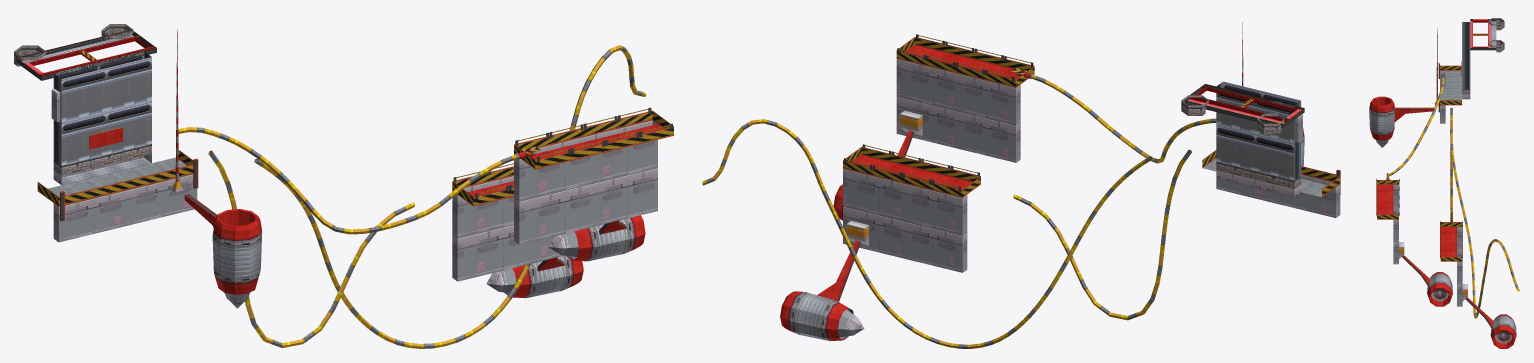
3 renders of one model, left to right at view 1: azimuth 30°, elevation 25°; view 2: azimuth 150°, elevation 25°; view 3: azimuth 270°, elevation 25°, orthographic. The views are drawn at different scales.
Visible parts, largest first — view 1: s13_on_05_5, s13_on_05_15, s13_on_05_11, s13_on_05_0, s13_on_05_2, s13_on_05_4, s13_on_05_1, s13_on_05_13, s13_on_05_14, s13_on_05_9, s13_on_05_3, s13_on_05_16 (+1 smaller); view 2: s13_on_05_5, s13_on_05_11, s13_on_05_0, s13_on_05_15, s13_on_05_2, s13_on_05_4, s13_on_05_1, s13_on_05_14, s13_on_05_7, s13_on_05_9; view 3: s13_on_05_2, s13_on_05_11, s13_on_05_5, s13_on_05_4, s13_on_05_0, s13_on_05_16, s13_on_05_13, s13_on_05_6, s13_on_05_3, s13_on_05_7, s13_on_05_14, s13_on_05_1 (+1 smaller).
Boxes of the visible parts, x1,y1,x2,y2 form: s13_on_05_5: [51, 88, 657, 308]; s13_on_05_15: [54, 51, 151, 165]; s13_on_05_11: [178, 45, 646, 348]; s13_on_05_0: [37, 50, 673, 206]; s13_on_05_2: [90, 124, 663, 298]; s13_on_05_4: [21, 34, 632, 297]; s13_on_05_1: [16, 30, 672, 199]; s13_on_05_13: [48, 157, 186, 196]; s13_on_05_14: [14, 27, 151, 175]; s13_on_05_9: [29, 35, 197, 192]; s13_on_05_3: [60, 148, 626, 270]; s13_on_05_16: [53, 51, 151, 165]; s13_on_05_5: [838, 59, 1340, 337]; s13_on_05_11: [702, 74, 1216, 348]; s13_on_05_0: [843, 35, 1340, 197]; s13_on_05_15: [1216, 81, 1300, 180]; s13_on_05_2: [780, 45, 1304, 341]; s13_on_05_4: [791, 100, 1304, 340]; s13_on_05_1: [844, 34, 1304, 191]; s13_on_05_14: [1181, 100, 1301, 188]; s13_on_05_7: [846, 95, 1284, 245]; s13_on_05_9: [1190, 85, 1340, 170]; s13_on_05_2: [1369, 96, 1516, 348]; s13_on_05_11: [1386, 77, 1519, 318]; s13_on_05_5: [1376, 70, 1470, 306]; s13_on_05_4: [1369, 21, 1516, 334]; s13_on_05_0: [1376, 33, 1487, 261]; s13_on_05_16: [1462, 22, 1470, 89]; s13_on_05_13: [1440, 70, 1461, 100]; s13_on_05_6: [1431, 289, 1512, 343]; s13_on_05_3: [1387, 64, 1492, 329]; s13_on_05_7: [1399, 18, 1504, 301]; s13_on_05_14: [1462, 19, 1504, 94]; s13_on_05_1: [1376, 19, 1496, 257].
Size of the model in its own units: 1436 by 895 by 549.
Materials: 17 (17 with a texture image).
